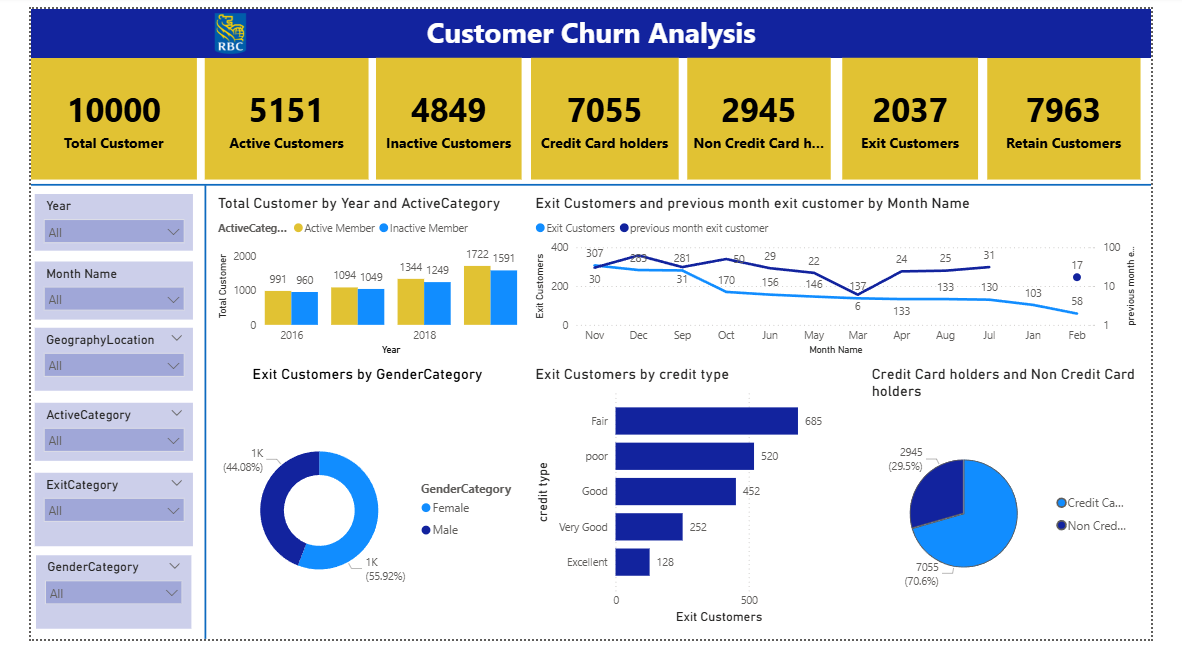

The page's visual inventory and layout, read from the dashboard file:
{"tool":"powerbi","page":{"name":"Home Page","canvas":[1280,720],"ordinal":0},"visuals":[{"type":"card","fields":{"Values":["Calculations (2).Total Customer"]},"box":[0,56.3,189.5,139.4],"z":0},{"type":"card","fields":{"Values":["Calculations (2).Active Customers"]},"box":[198.1,56.3,187.1,139.4],"z":1000},{"type":"card","fields":{"Values":["Calculations (2).Retain Customers"]},"box":[1093.2,56.3,174.9,139.4],"z":2000},{"type":"textbox","box":[0,0,1280.3,56.3],"z":3000},{"type":"image","box":[189.5,0,75.8,56.3],"z":4000},{"type":"card","fields":{"Values":["Calculations (2).Inactive Customers"]},"box":[393.8,56.3,166.3,139.4],"z":5000},{"type":"card","fields":{"Values":["Calculations (2).Exit Customers"]},"box":[926.9,56.3,155.3,139.4],"z":6000},{"type":"card","fields":{"Values":["Calculations (2).Credit Card holders"]},"box":[571.1,56.3,168.8,139.4],"z":7000},{"type":"card","fields":{"Values":["Calculations (2).Non Credit Card holders"]},"box":[749.6,56.3,163.9,139.4],"z":8000},{"type":"shape","box":[0,126,1280.3,150.4],"z":9000},{"type":"slicer","fields":{"Values":["DateMaster.Year"]},"box":[4.9,211.6,181,64.8],"z":10000},{"type":"shape","box":[148,201.8,101.5,518.5],"z":11000},{"type":"slicer","fields":{"Values":["DateMaster.Month Name"]},"box":[4.9,288.6,181,66],"z":12000},{"type":"slicer","fields":{"Values":["ActiveCustomer.ActiveCategory"]},"box":[4.9,450,181,66],"z":13000},{"type":"slicer","fields":{"Values":["Geography.GeographyLocation"]},"box":[4.9,364.4,181,72.1],"z":14000},{"type":"slicer","fields":{"Values":["ExitCustomer.ExitCategory"]},"box":[4.9,530.7,181,84.4],"z":15000},{"type":"slicer","fields":{"Values":["Gender.GenderCategory"]},"box":[6.1,623.6,177.3,84.4],"z":16000},{"type":"clusteredColumnChart","fields":{"Category":["DateMaster.Year","DateMaster.Month Name"],"Y":["Calculations (2).Total Customer"],"Series":["ActiveCustomer.ActiveCategory"]},"box":[207.9,211.6,352.2,189.5],"z":17000},{"type":"lineChart","fields":{"Y":["Calculations (2).Exit Customers"],"Category":["DateMaster.Month Name"],"Y2":["Calculations (2).previous month exit customer"]},"box":[571.1,211.6,697,189.5],"z":18000},{"type":"donutChart","fields":{"Y":["Calculations (2).Exit Customers"],"Category":["Gender.GenderCategory"]},"box":[207.9,407.2,352.2,313],"z":19000},{"type":"clusteredBarChart","fields":{"Category":["Bank_Churn.credit type"],"Y":["Calculations (2).Exit Customers"]},"box":[571.1,407.2,348.5,300.8],"z":20000},{"type":"pieChart","fields":{"Y":["Calculations (2).Credit Card holders","Calculations (2).Non Credit Card holders"]},"box":[956.3,407.2,311.8,300.8],"z":21000}]}

Visuals, with their boxes in screenshot pixels (x1, y1, x2, y2), scaled from the page's 1280x720 canvas onto the 1182x660 screenshot:
card - Calculations (2).Total Customer: <region>0, 52, 175, 179</region>
card - Calculations (2).Active Customers: <region>183, 52, 356, 179</region>
card - Calculations (2).Retain Customers: <region>1010, 52, 1171, 179</region>
textbox: <region>0, 0, 1181, 52</region>
image: <region>175, 0, 245, 52</region>
card - Calculations (2).Inactive Customers: <region>364, 52, 517, 179</region>
card - Calculations (2).Exit Customers: <region>856, 52, 999, 179</region>
card - Calculations (2).Credit Card holders: <region>527, 52, 683, 179</region>
card - Calculations (2).Non Credit Card holders: <region>692, 52, 844, 179</region>
shape: <region>0, 116, 1181, 253</region>
slicer - DateMaster.Year: <region>5, 194, 172, 253</region>
shape: <region>137, 185, 230, 659</region>
slicer - DateMaster.Month Name: <region>5, 265, 172, 325</region>
slicer - ActiveCustomer.ActiveCategory: <region>5, 412, 172, 473</region>
slicer - Geography.GeographyLocation: <region>5, 334, 172, 400</region>
slicer - ExitCustomer.ExitCategory: <region>5, 486, 172, 564</region>
slicer - Gender.GenderCategory: <region>6, 572, 169, 649</region>
clusteredColumnChart - DateMaster.Year x DateMaster.Month Name: <region>192, 194, 517, 368</region>
lineChart - Calculations (2).Exit Customers x DateMaster.Month Name: <region>527, 194, 1171, 368</region>
donutChart - Calculations (2).Exit Customers x Gender.GenderCategory: <region>192, 373, 517, 659</region>
clusteredBarChart - Bank_Churn.credit type x Calculations (2).Exit Customers: <region>527, 373, 849, 649</region>
pieChart - Calculations (2).Credit Card holders x Calculations (2).Non Credit Card holders: <region>883, 373, 1171, 649</region>
